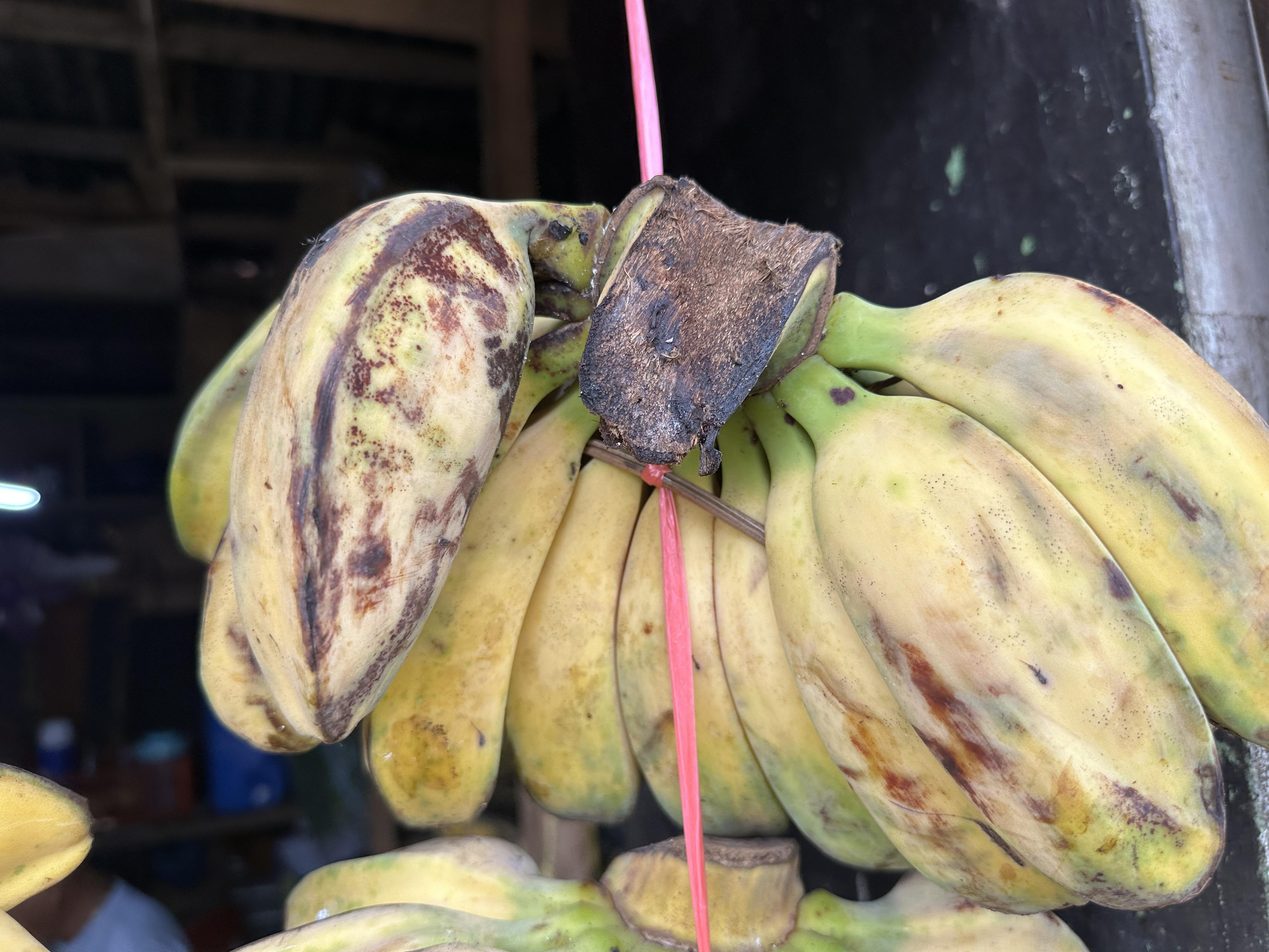underripe: (168, 197, 1269, 913)
